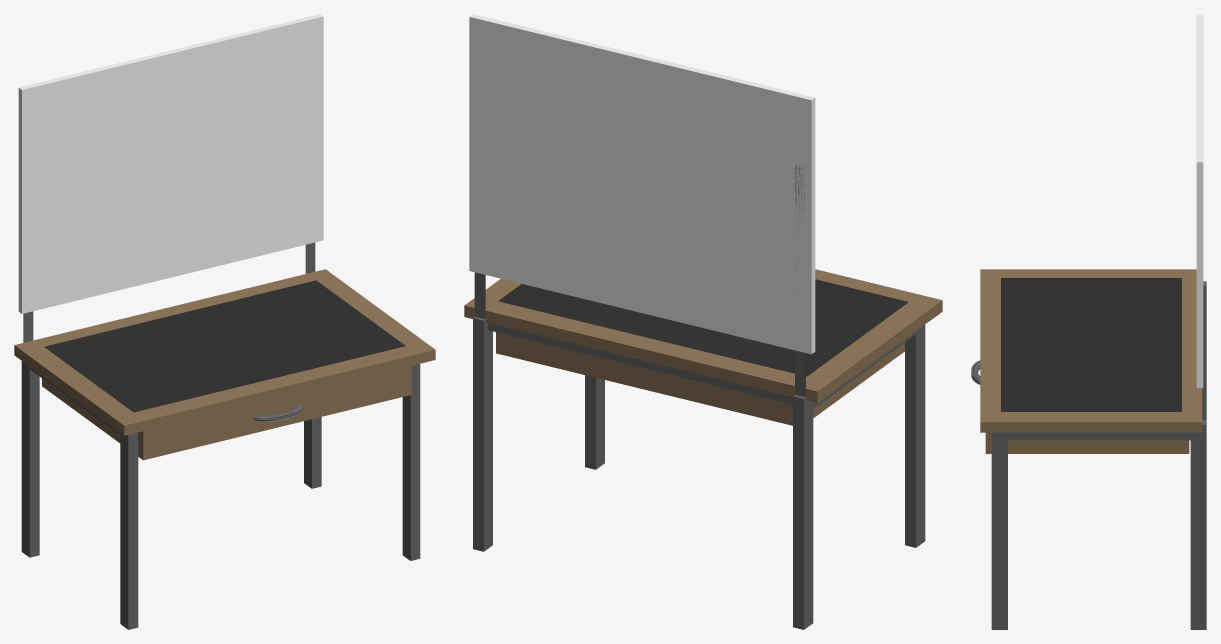
File: Workbench_zart.fbx
3 renders of one model, left to right at view 1: azimuth 30°, elevation 25°; view 2: azimuth 150°, elevation 25°; view 3: azimuth 270°, elevation 25°, orthographic. The views are drawn at different scales.
Parts seen in each view (by area): view 1: Workbench, Drawer; view 2: Workbench, Drawer; view 3: Workbench, Drawer.
Part boxes in pixels (box(x1,y1,x2,y2)): Workbench: box(14, 14, 435, 629); Drawer: box(42, 366, 411, 460); Workbench: box(464, 14, 942, 629); Drawer: box(496, 332, 904, 425); Workbench: box(980, 14, 1206, 629); Drawer: box(971, 360, 1189, 453).
Bounding box in the file's own units: 320 × 458 × 208.
